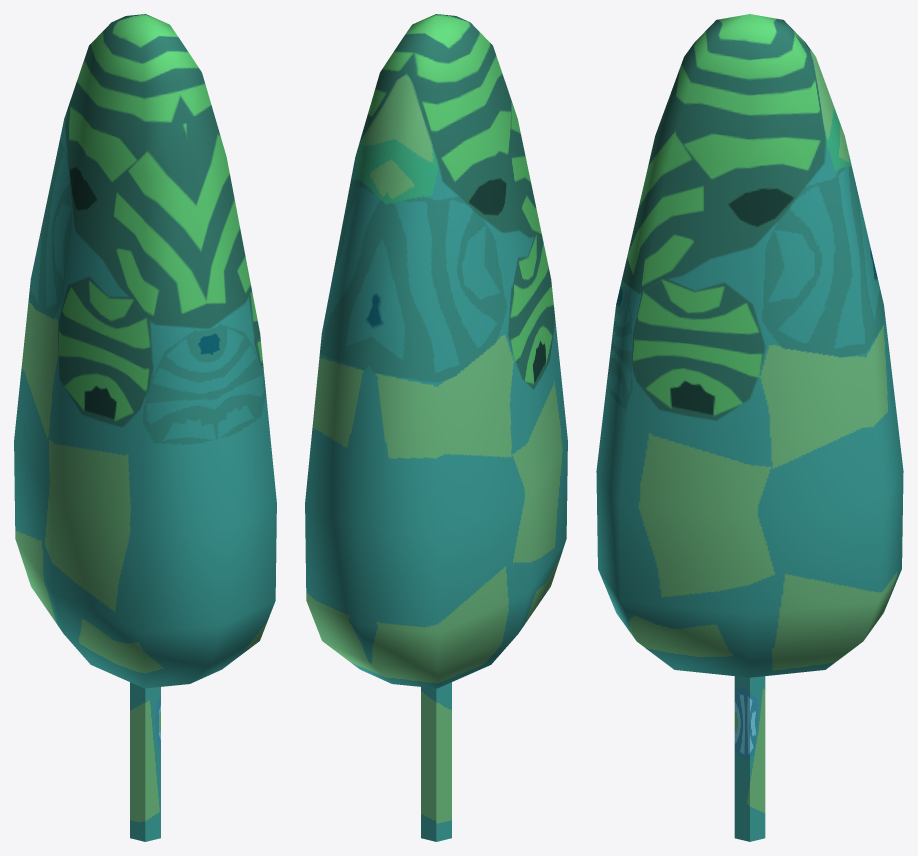
The model's file is tree_F.fbx.
The picture shows the model from 3 angles, left to right: view 1: azimuth 30°, elevation 25°; view 2: azimuth 150°, elevation 25°; view 3: azimuth 270°, elevation 25°; orthographic projection.
Parts seen in each view (by area): view 1: treeF; view 2: treeF; view 3: treeF.
Part boxes in pixels (x1=…): treeF: x1=14, y1=14, x2=276, y2=841; treeF: x1=305, y1=14, x2=567, y2=841; treeF: x1=596, y1=14, x2=903, y2=841.
Size of the model in its own units: 49.71 by 206 by 70.
